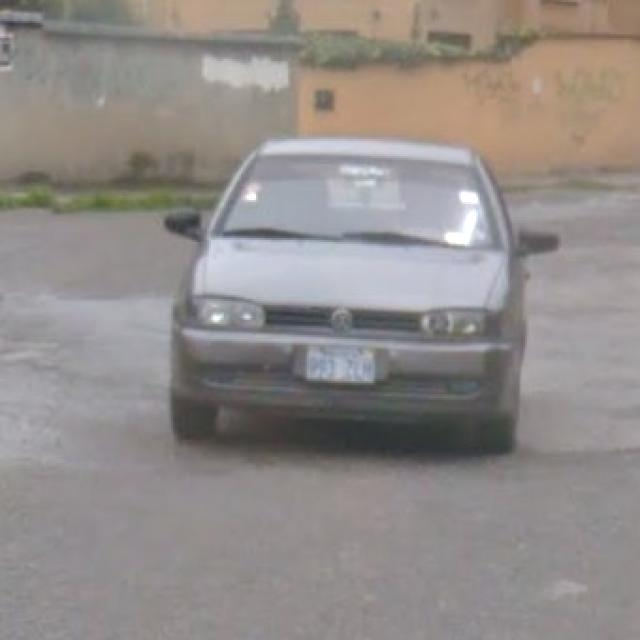car: (163, 131, 539, 472)
